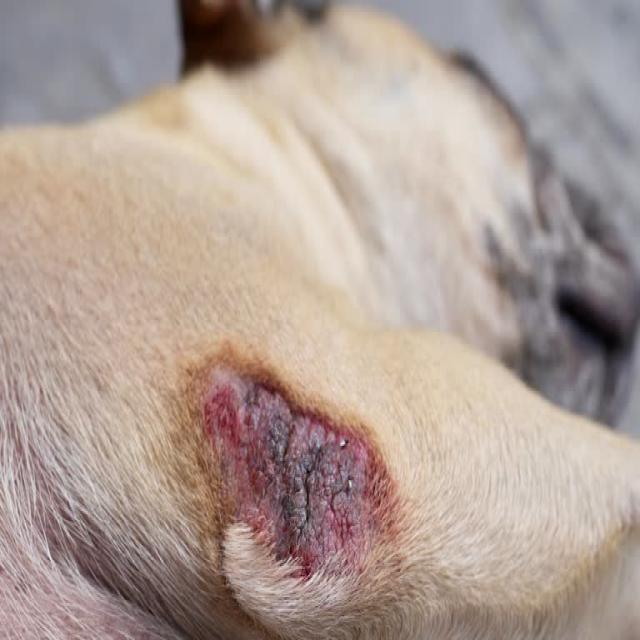injured-animals: (3, 6, 635, 634)
